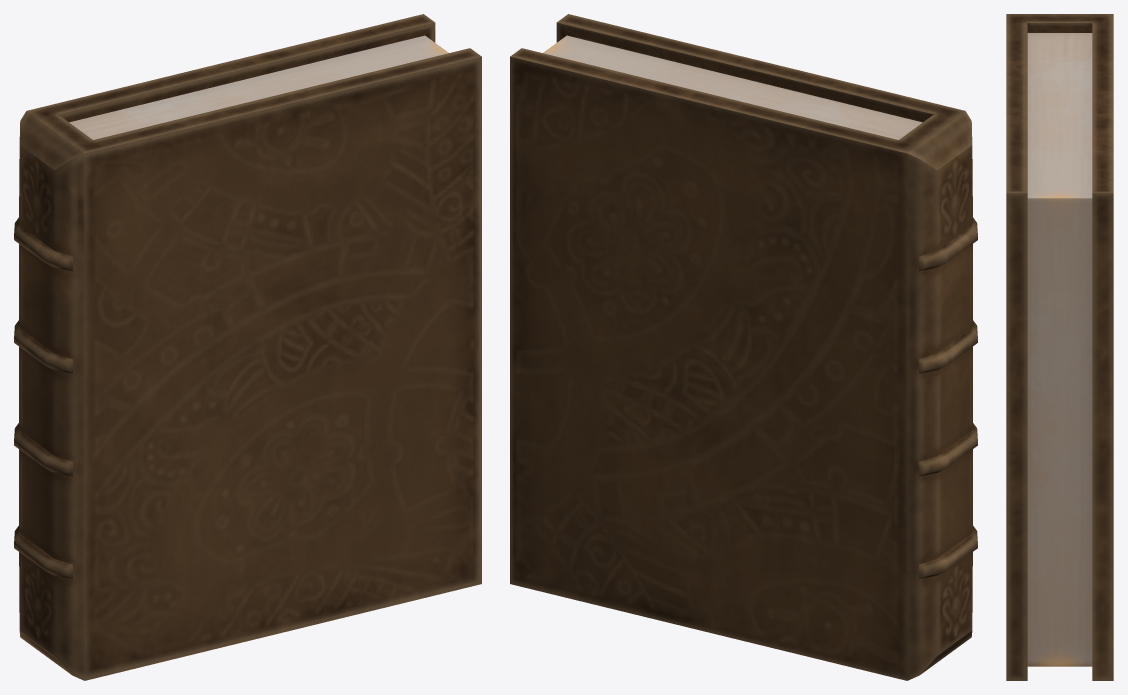
The model's file is SM_Book_B.fbx.
3 views of the same model, side by side, from view 1: azimuth 30°, elevation 25°; view 2: azimuth 150°, elevation 25°; view 3: azimuth 270°, elevation 25° (orthographic). The views are drawn at different scales.
Visible parts, largest first — view 1: SM_Book_B_LOD0; view 2: SM_Book_B_LOD0; view 3: SM_Book_B_LOD0.
Boxes of the visible parts, x1,y1,x2,y2 form: SM_Book_B_LOD0: (14,14,481,680); SM_Book_B_LOD0: (510,14,977,680); SM_Book_B_LOD0: (1006,14,1113,680).
Bounding box in the file's own units: 20.98 × 5 × 25.
Materials: 1 (1 with a texture image).
